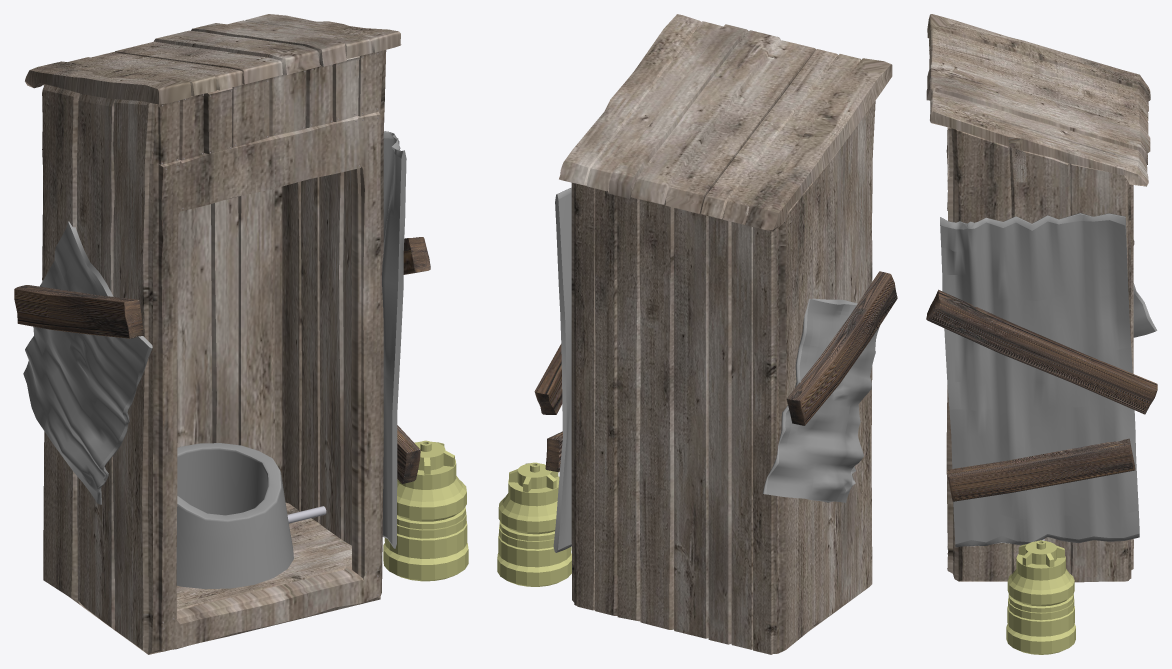
The model's file is outhouseTextured.fbx.
The picture shows the model from 3 angles, left to right: view 1: azimuth 30°, elevation 25°; view 2: azimuth 150°, elevation 25°; view 3: azimuth 270°, elevation 25°; orthographic projection. The views are drawn at different scales.
Parts seen in each view (by area): view 1: outHouse, sheet1, loo, septicTank, pCube6, panel1, sheet2, panel2; view 2: outHouse, sheet1, septicTank, panel1, pCube6, panel2; view 3: pCube6, outHouse, panel2, septicTank, sheet2, sheet1.
Part boxes in pixels (x1=…): outHouse: x1=25, y1=14, x2=401, y2=654; sheet1: x1=23, y1=221, x2=152, y2=504; loo: x1=176, y1=443, x2=293, y2=589; septicTank: x1=383, y1=440, x2=468, y2=581; pCube6: x1=382, y1=131, x2=406, y2=548; panel1: x1=14, y1=285, x2=144, y2=338; sheet2: x1=397, y1=425, x2=420, y2=483; panel2: x1=403, y1=237, x2=430, y2=274; outHouse: x1=559, y1=14, x2=892, y2=654; sheet1: x1=762, y1=298, x2=879, y2=502; septicTank: x1=497, y1=462, x2=571, y2=586; panel1: x1=786, y1=271, x2=897, y2=425; pCube6: x1=553, y1=188, x2=571, y2=552; panel2: x1=534, y1=344, x2=562, y2=414; pCube6: x1=940, y1=213, x2=1139, y2=547; outHouse: x1=926, y1=14, x2=1150, y2=582; panel2: x1=926, y1=289, x2=1157, y2=414; septicTank: x1=1006, y1=540, x2=1075, y2=654; sheet2: x1=946, y1=438, x2=1135, y2=501; sheet1: x1=1133, y1=283, x2=1157, y2=337.
Size of the model in its own units: 12.4 by 18.16 by 7.69.
Materials: 7 (2 with a texture image).
